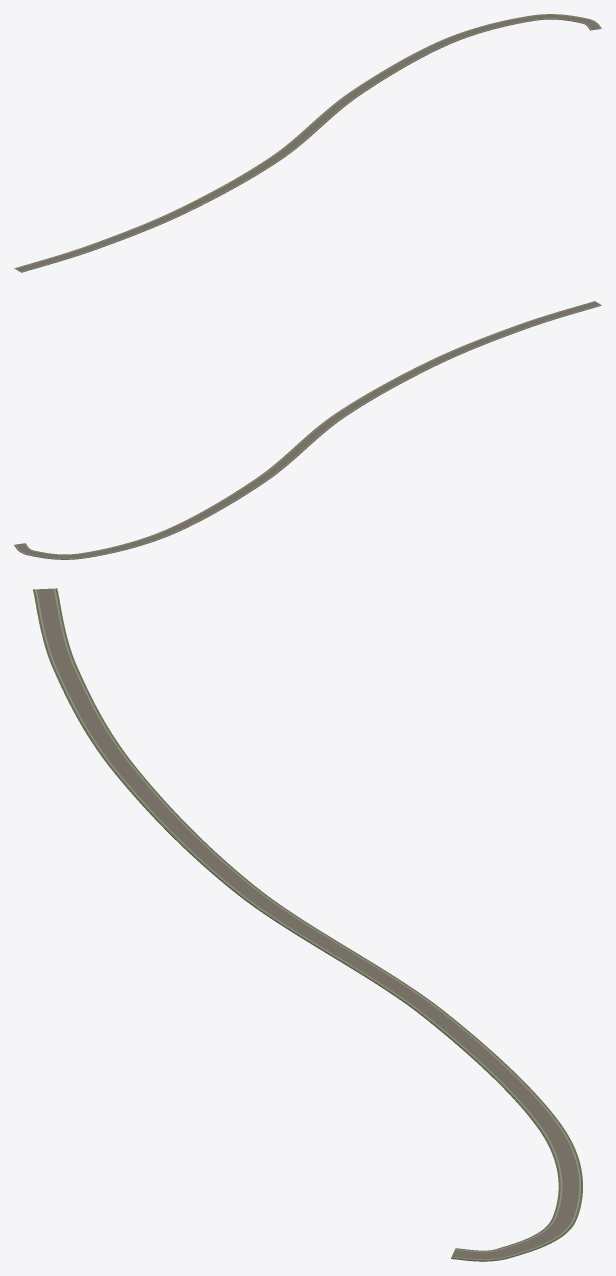
File: road_roam_link.glb
3 renders of one model, top to bottom at view 1: azimuth 30°, elevation 25°; view 2: azimuth 210°, elevation 25°; view 3: azimuth 270°, elevation 25°, orthographic. The views are drawn at different scales.
Visible parts, largest first — view 1: road; view 2: road; view 3: road.
Part boxes in pixels (x1,y1,x2,y2): road: (14,14,601,272); road: (14,301,601,559); road: (33,588,582,1261).
Size of the model in its own units: 782 by 0.32 by 270.
